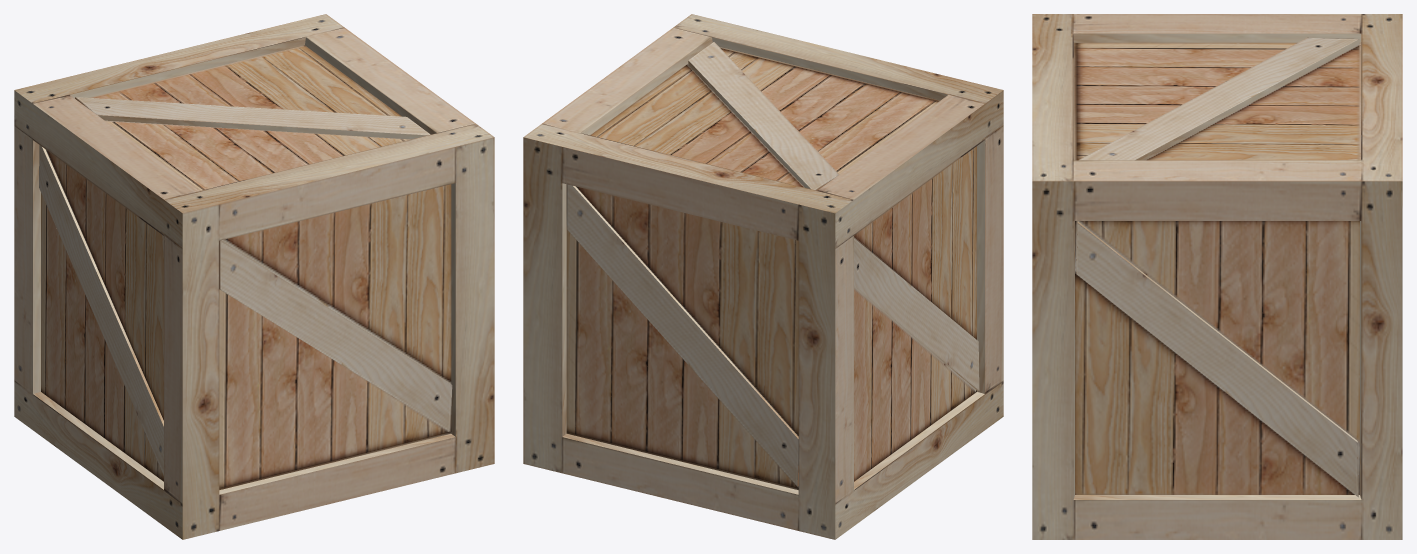
The model's file is u8zPImeSUCILhh5YD9uQ.glb.
The picture shows the model from 3 angles, left to right: view 1: azimuth 30°, elevation 25°; view 2: azimuth 150°, elevation 25°; view 3: azimuth 270°, elevation 25°; orthographic projection. The views are drawn at different scales.
Visible parts, largest first — view 1: Box Wood; view 2: Box Wood; view 3: Box Wood.
Part boxes in pixels (box(x1,y1,x2,y2)): Box Wood: box(14, 14, 494, 539); Box Wood: box(523, 14, 1003, 539); Box Wood: box(1032, 14, 1402, 539).
Bounding box in the file's own units: 1.64 × 1.64 × 1.53.
Materials: 1 (1 with a texture image).
